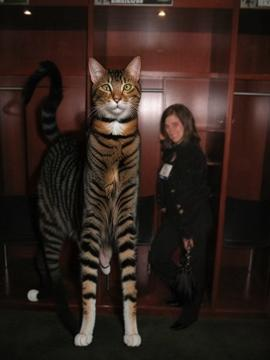cat: (20, 56, 141, 346)
person: (148, 103, 211, 333)
